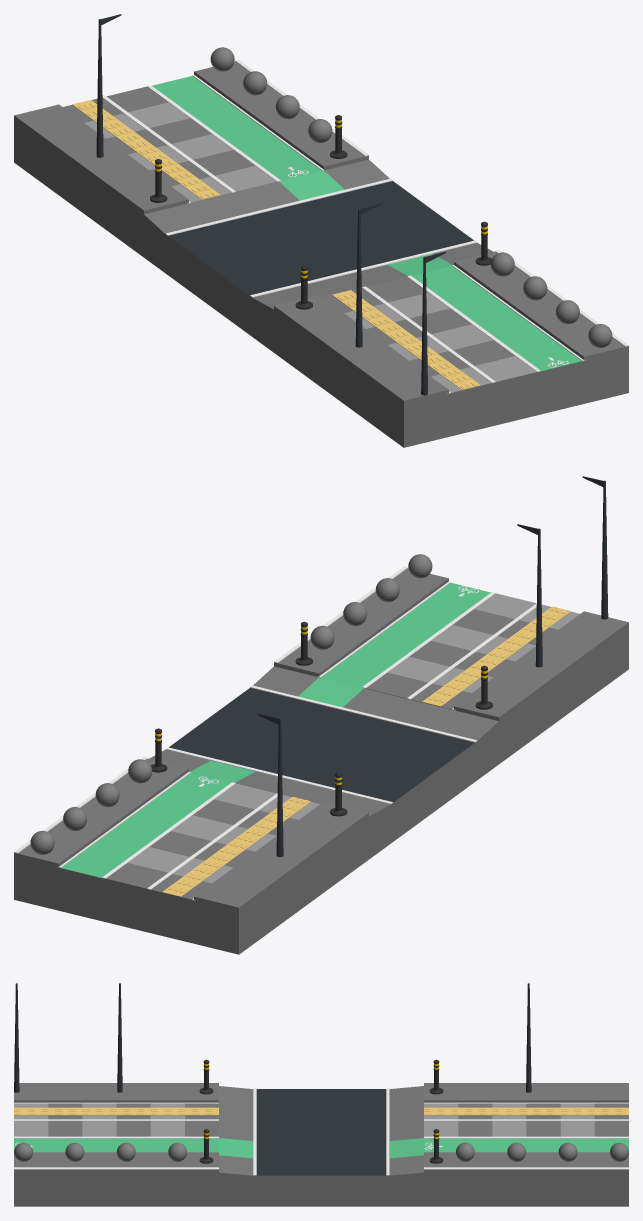
The model's file is Trotoar2.fbx.
3 renders of one model, top to bottom at view 1: azimuth 30°, elevation 25°; view 2: azimuth 150°, elevation 25°; view 3: azimuth 270°, elevation 25°, orthographic. The views are drawn at different scales.
Visible parts, largest first — view 1: Sphere.001; view 2: Sphere.001; view 3: Sphere.001.
Boxes of the visible parts, x1,y1,x2,y2 form: Sphere.001: (14, 14, 628, 447); Sphere.001: (14, 476, 628, 954); Sphere.001: (14, 983, 628, 1206).
Size of the model in its own units: 600 by 468 by 1800.
